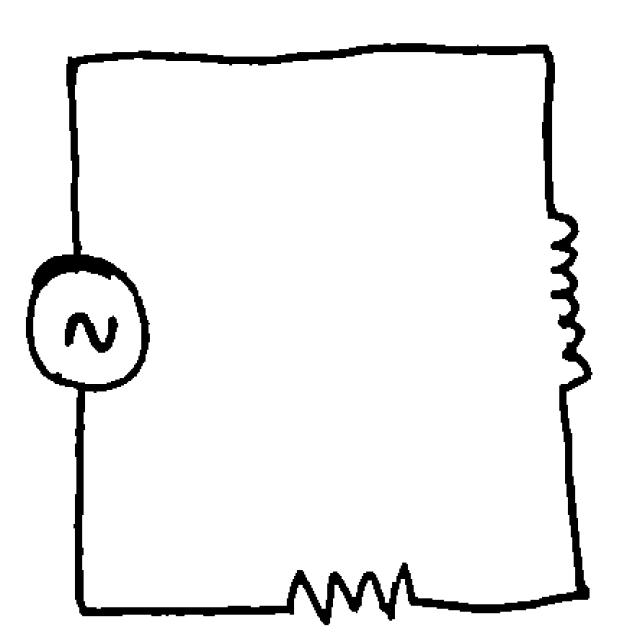ac: (16, 242, 163, 404)
inductor: (521, 199, 601, 418)
resistor: (273, 544, 428, 633)
